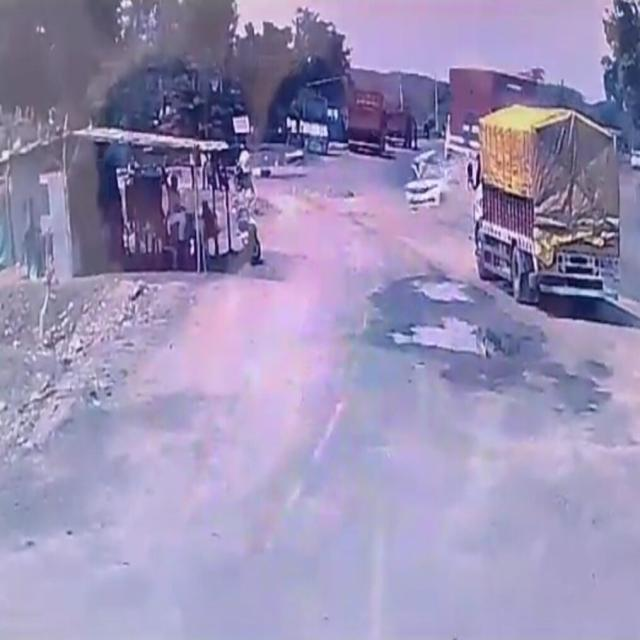truck: (468, 105, 620, 303)
